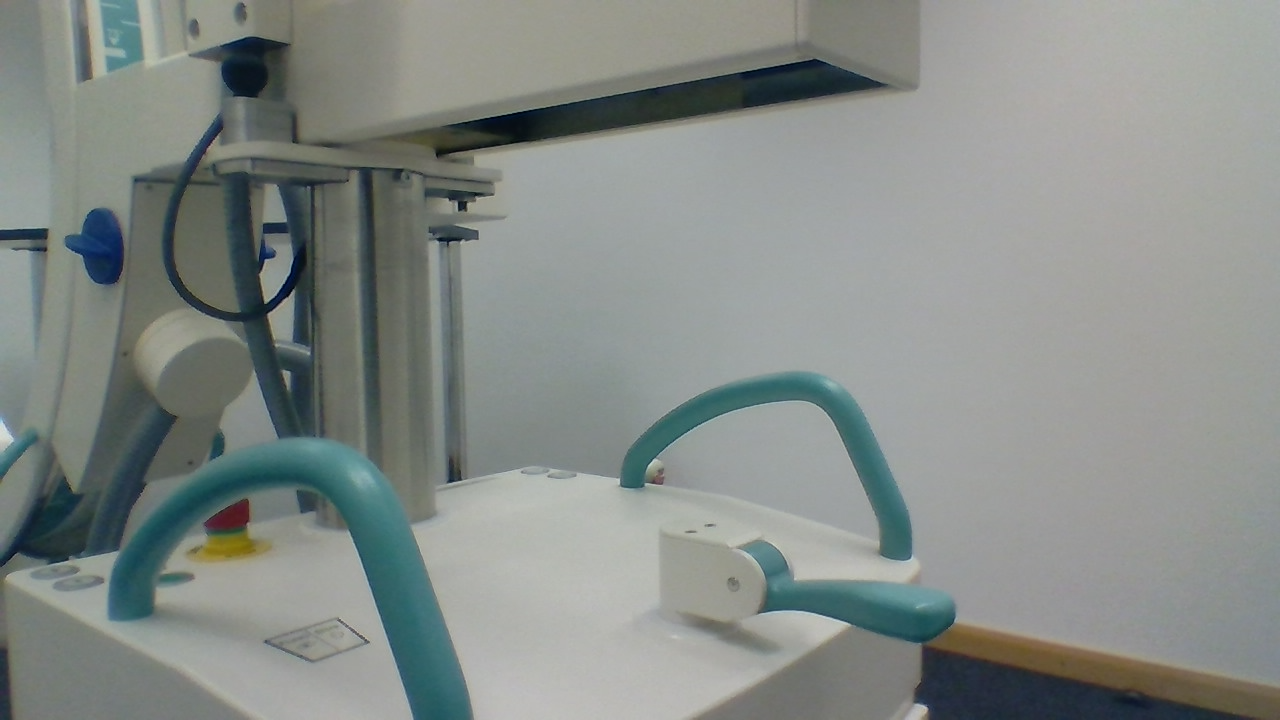carmBACK: (659, 523, 960, 646)
carmLOCK: (63, 206, 124, 288)
